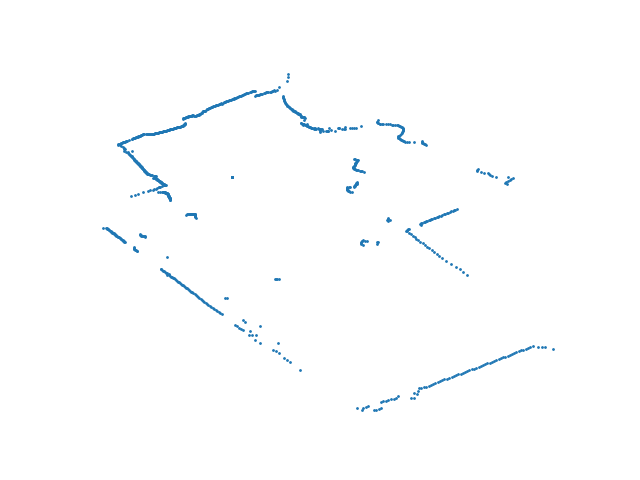person: (345, 157, 367, 196)
